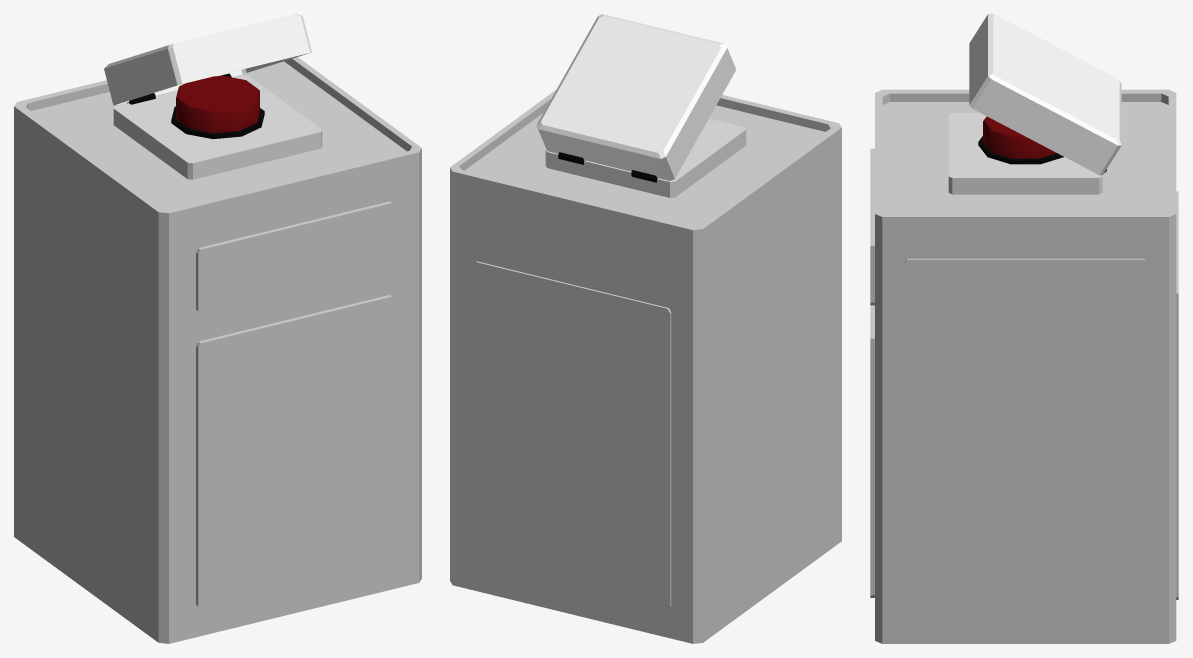
File: button_megre 1.fbx
3 renders of one model, left to right at view 1: azimuth 30°, elevation 25°; view 2: azimuth 150°, elevation 25°; view 3: azimuth 270°, elevation 25°, orthographic. The views are drawn at different scales.
Visible parts, largest first — view 1: Cylinder; view 2: Cylinder; view 3: Cylinder.
Boxes of the visible parts, x1=… form: Cylinder: x1=14, y1=14, x2=421, y2=643; Cylinder: x1=450, y1=14, x2=841, y2=643; Cylinder: x1=870, y1=14, x2=1178, y2=643.
Bounding box in the file's own units: 64.5 × 126 × 65.5.
